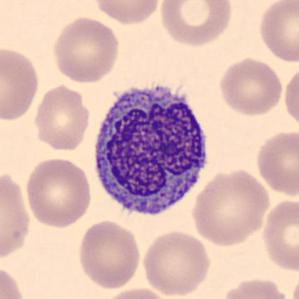Monocyte: (87, 74, 216, 223)
RBC: (190, 166, 272, 248), (22, 154, 94, 230), (140, 228, 214, 298), (50, 14, 121, 84), (76, 217, 143, 291), (216, 55, 285, 118), (32, 82, 92, 152), (157, 0, 235, 48), (0, 43, 42, 123), (252, 127, 299, 198), (0, 168, 32, 262), (259, 197, 298, 274), (255, 0, 298, 64), (90, 0, 164, 26), (220, 275, 294, 299), (282, 64, 299, 132), (0, 262, 27, 299), (97, 286, 173, 299), (289, 267, 299, 299)
